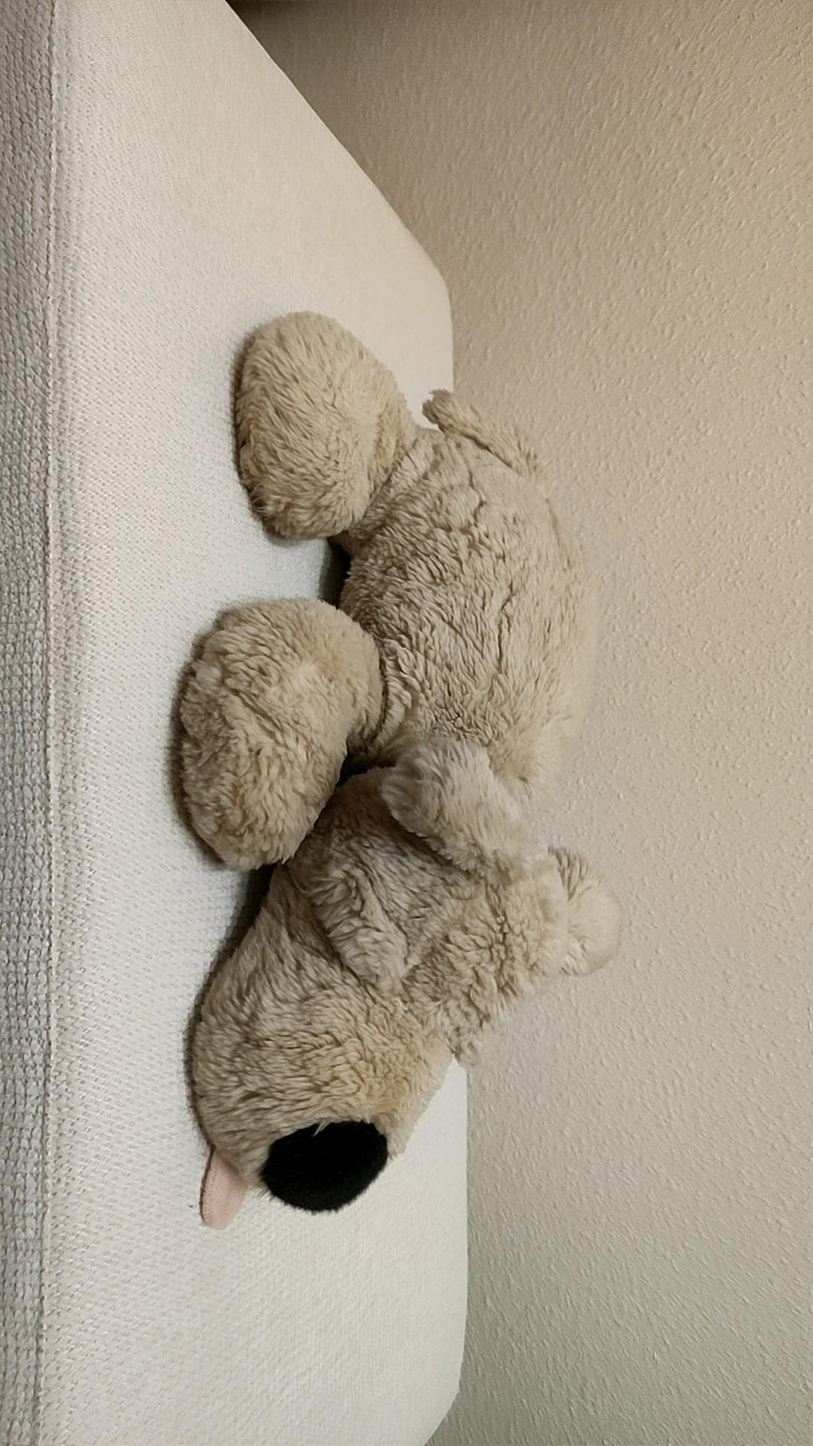toy: (180, 315, 619, 1222)
